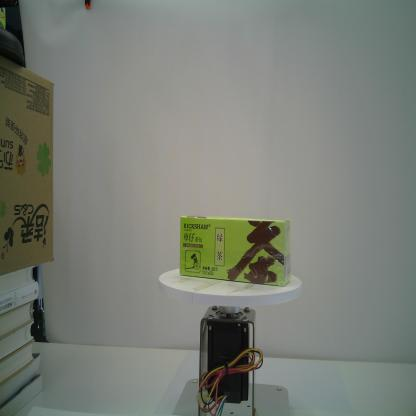Instant Drink: (179, 214, 292, 288)
